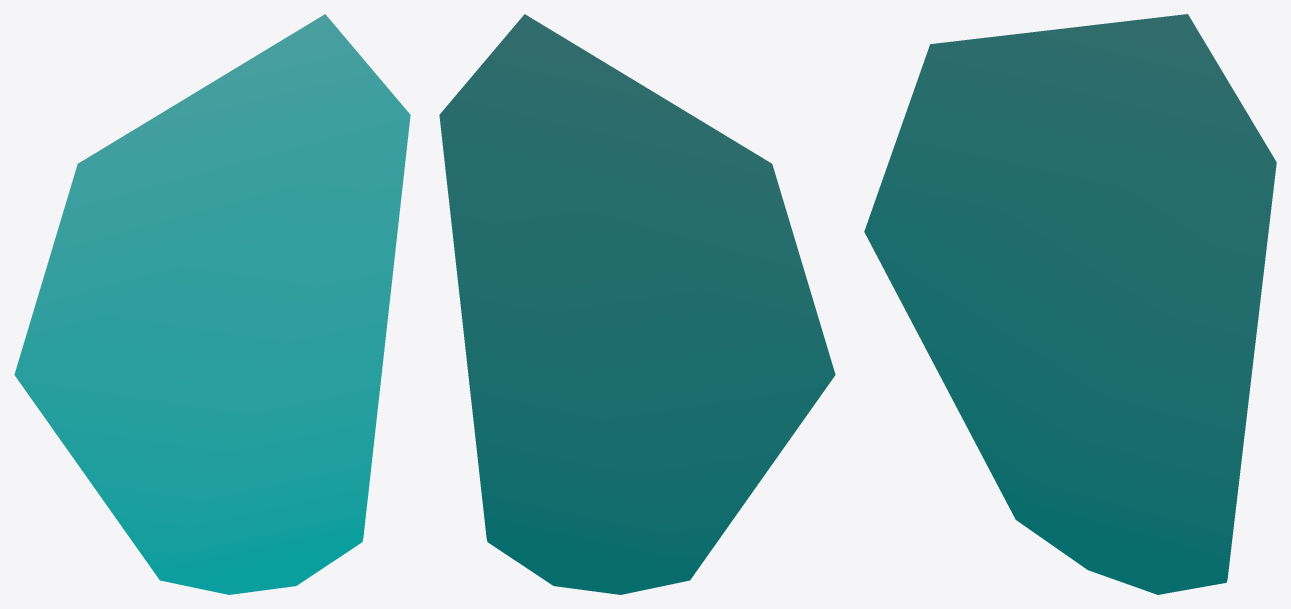
Rendered from Wheat_Grass_tdcrdbur_Mid_tdcrdbur_VarB_LOD2.fbx.
3 views of the same model, side by side, from view 1: azimuth 30°, elevation 25°; view 2: azimuth 150°, elevation 25°; view 3: azimuth 330°, elevation 25° (orthographic). The views are drawn at different scales.
Parts seen in each view (by area): view 1: _0148_VarB_LOD3; view 2: _0148_VarB_LOD3; view 3: _0148_VarB_LOD3.
Part boxes in pixels (<box>): _0148_VarB_LOD3: <box>14,14,410,594</box>; _0148_VarB_LOD3: <box>439,14,835,594</box>; _0148_VarB_LOD3: <box>864,14,1276,594</box>.
Bounding box in the file's own units: 86.43 × 118 × 0.
